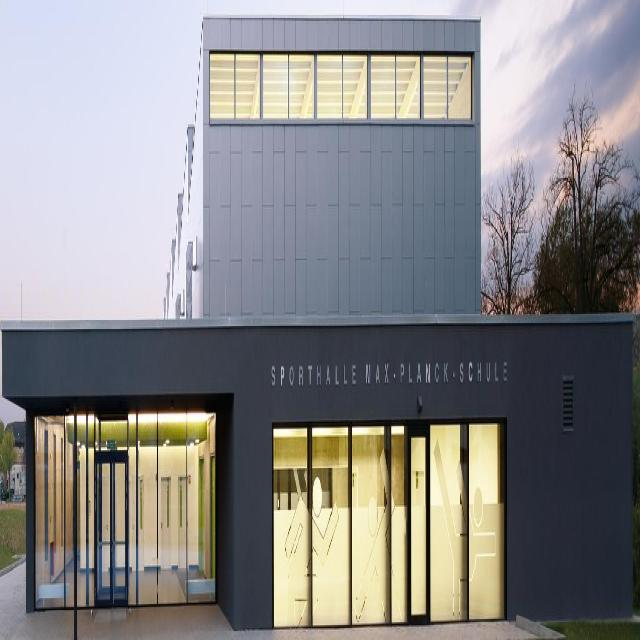door: (272, 431, 504, 632), (95, 445, 130, 613)
window: (35, 414, 217, 606), (209, 53, 472, 117)
